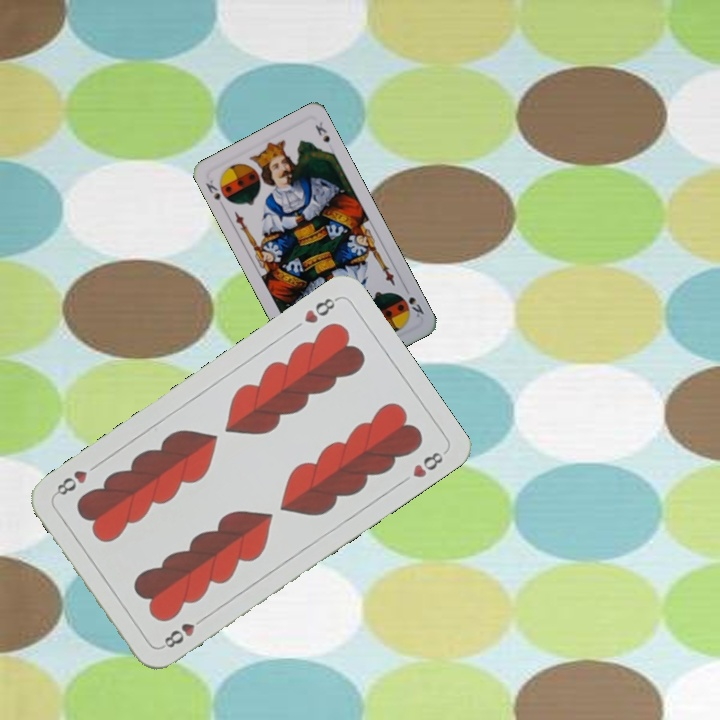H8: (157, 612, 209, 651), (300, 293, 341, 326)
SK: (404, 292, 427, 320), (201, 176, 223, 204)
